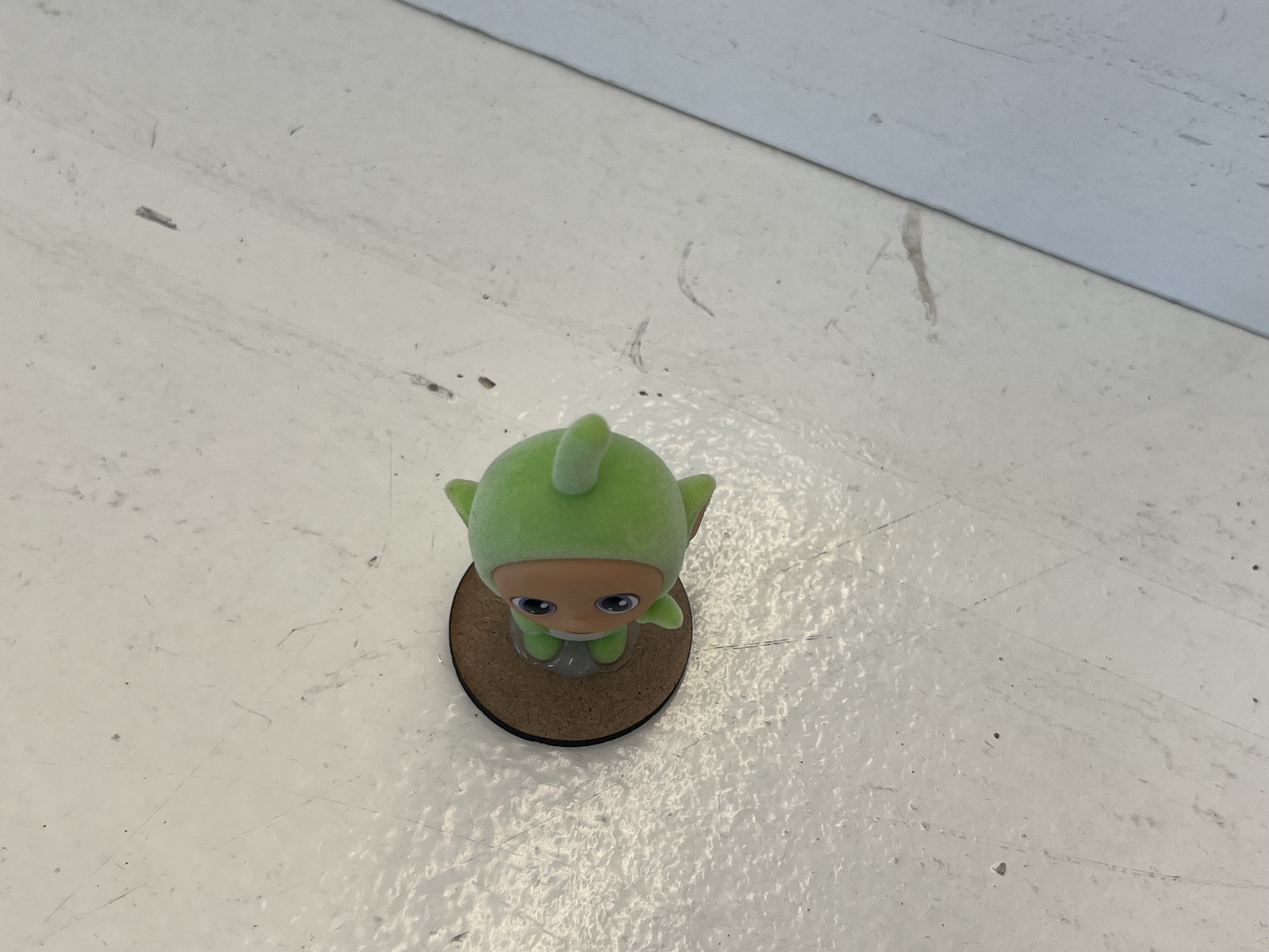teletubby: (444, 414, 716, 665)
